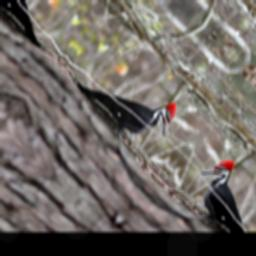Woodpecker: (65, 39, 187, 162)
